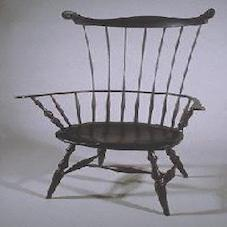chair: (23, 2, 214, 216)
